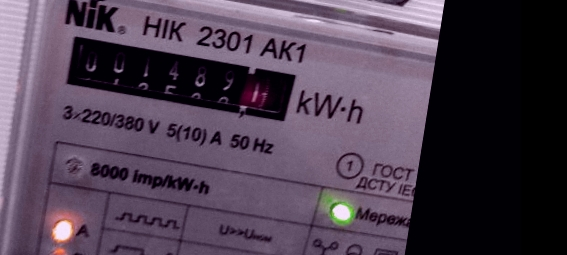0: (108, 46, 128, 74), (81, 46, 100, 73)
1: (136, 50, 155, 81), (246, 73, 263, 105)
4: (163, 55, 183, 83)
8: (189, 59, 210, 88)
9: (218, 66, 236, 93)
screen: (48, 22, 312, 137)
